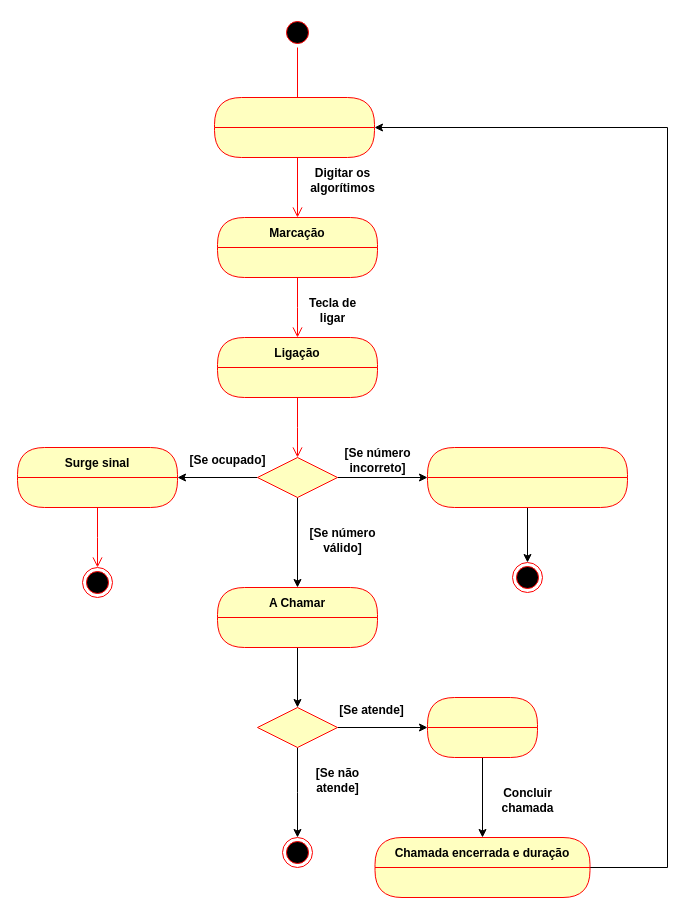
Some shapes in this 693 by 915 pixel diagram are drawn without their labels. Each missing label, with the box of its shape:
Comunicação: (426, 696, 538, 758)
Espera: (214, 96, 374, 158)
Mensagem de número inválido: (426, 446, 628, 508)
